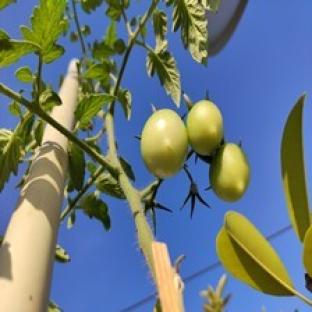Tomato: (141, 109, 188, 178), (209, 144, 250, 201), (187, 101, 222, 155)
